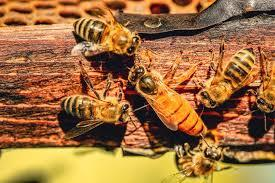Queen-Bee: (126, 54, 210, 140)
worker-bee: (48, 82, 137, 137), (195, 42, 258, 115), (64, 5, 147, 56)
